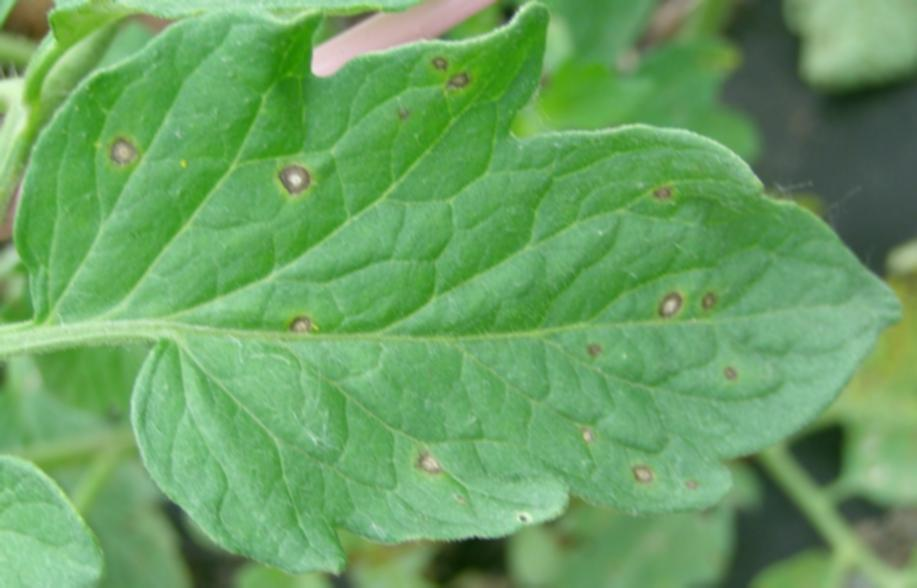Tomato leaf bacterial spot: (16, 2, 907, 564)
